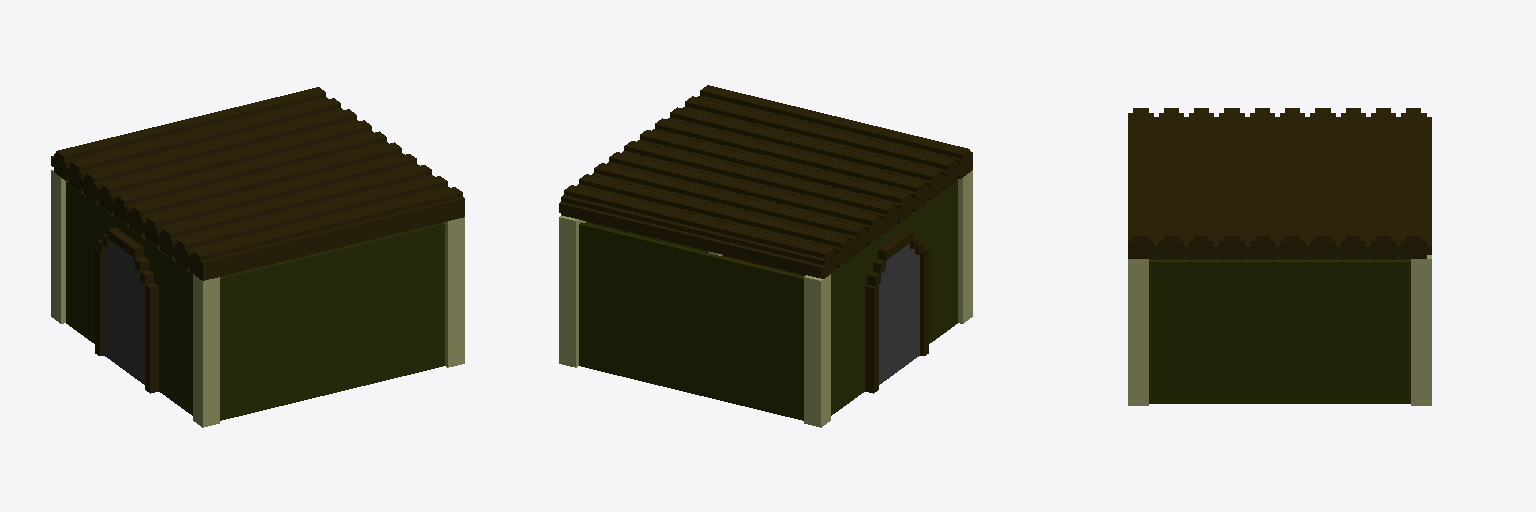
3 views of the same model, side by side, from view 1: azimuth 30°, elevation 25°; view 2: azimuth 150°, elevation 25°; view 3: azimuth 270°, elevation 25° (orthographic).
Parts seen in each view (by area): view 1: object 1; view 2: object 1; view 3: object 1.
Part boxes in pixels (bbox=[...]): object 1: bbox=[51, 87, 464, 427]; object 1: bbox=[559, 85, 972, 427]; object 1: bbox=[1128, 108, 1431, 405].
Bounding box in the file's own units: 6.1 × 3.7 × 6.
Materials: 1 (1 with a texture image).